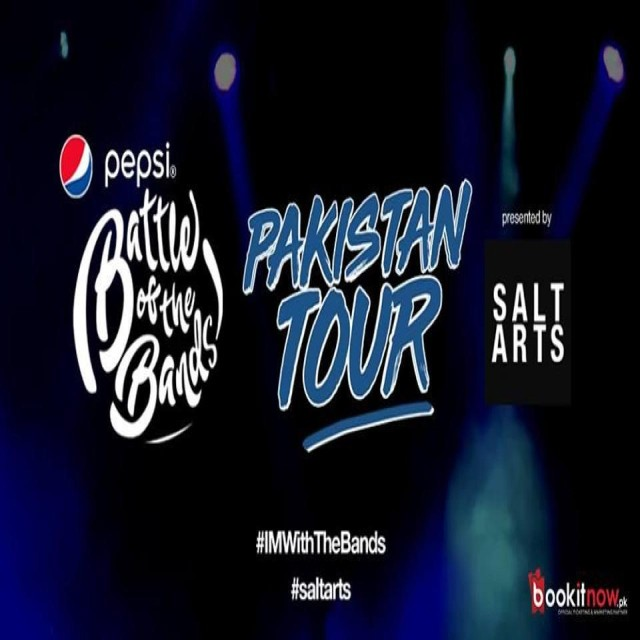pepsi: (60, 133, 97, 200)
